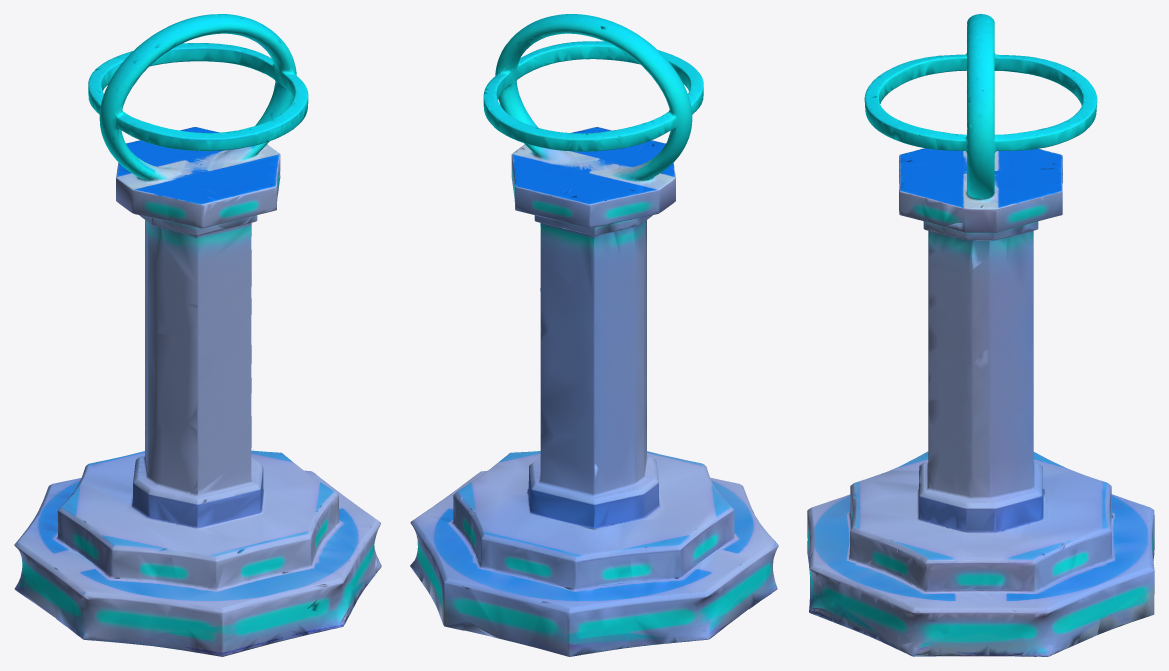
The model's file is pedestal.glb.
3 renders of one model, left to right at view 1: azimuth 30°, elevation 25°; view 2: azimuth 150°, elevation 25°; view 3: azimuth 270°, elevation 25°, orthographic.
Size of the model in its own units: 1.07 by 1.91 by 1.08.
1 material, 1 textured.
